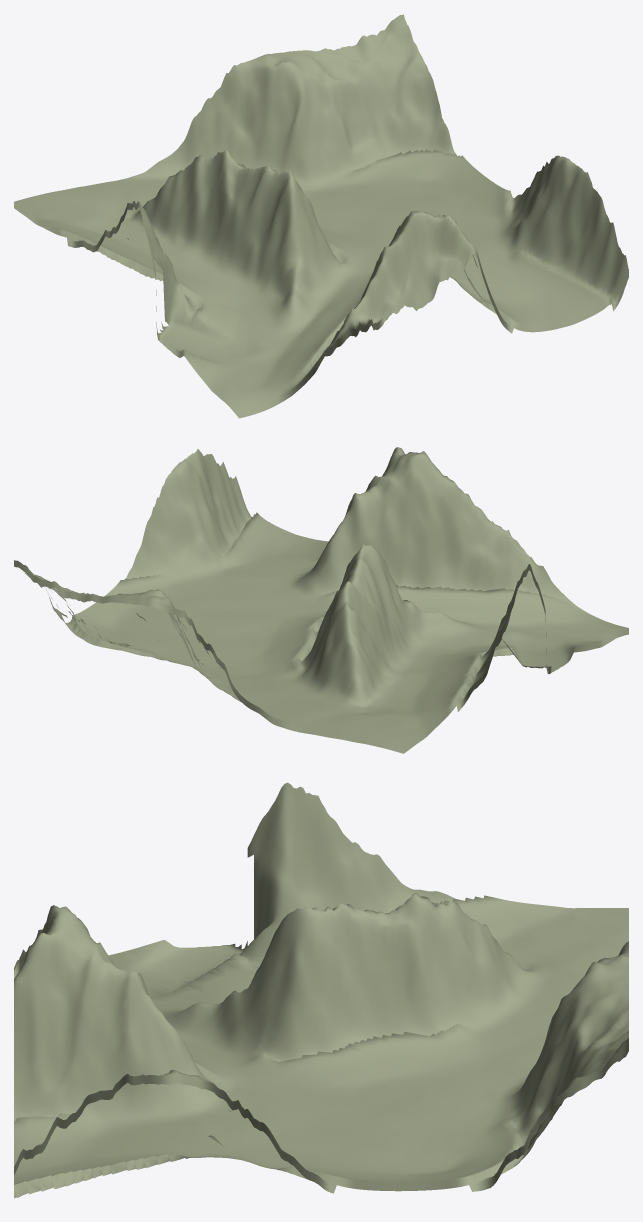
Rendered from terrain_r2_c2_lod0.glb.
3 views of the same model, one above another, from view 1: azimuth 30°, elevation 25°; view 2: azimuth 150°, elevation 25°; view 3: azimuth 270°, elevation 25° (orthographic). The views are drawn at different scales.
Parts seen in each view (by area): view 1: terrain_r2_c2; view 2: terrain_r2_c2; view 3: terrain_r2_c2.
Boxes of the visible parts, x1=… form: terrain_r2_c2: x1=14, y1=14, x2=628, y2=418; terrain_r2_c2: x1=14, y1=447, x2=628, y2=753; terrain_r2_c2: x1=14, y1=782, x2=628, y2=1198.
Bounding box in the file's own units: 50 × 18.09 × 50.
